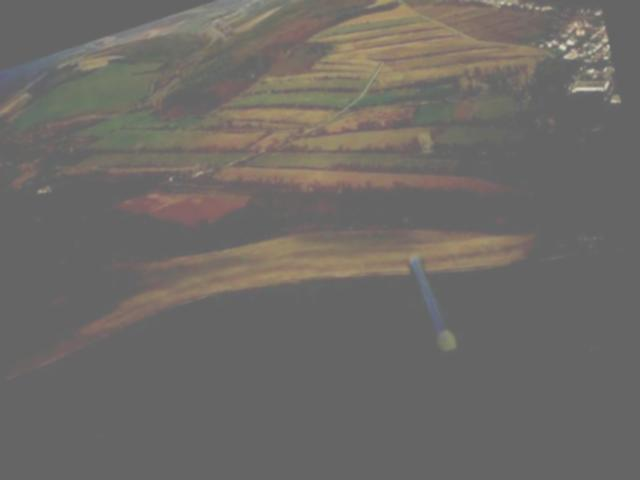iha: (240, 72, 265, 85)
